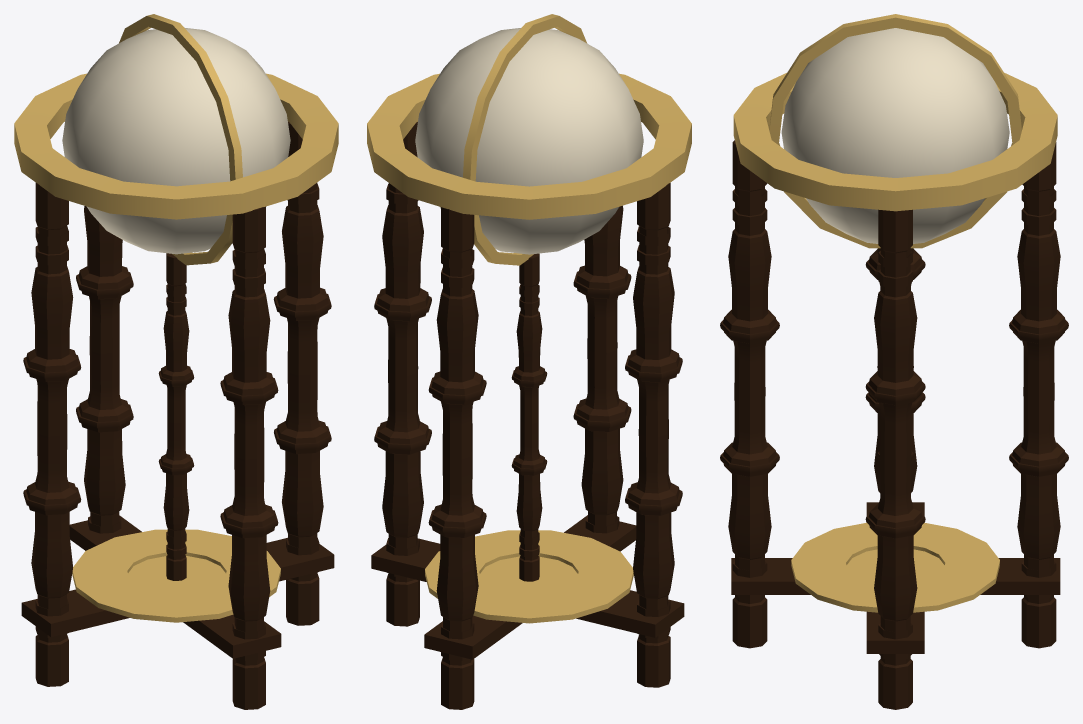
The model's file is MiscGlobeUV.fbx.
The picture shows the model from 3 angles, left to right: view 1: azimuth 30°, elevation 25°; view 2: azimuth 150°, elevation 25°; view 3: azimuth 270°, elevation 25°; orthographic projection.
Parts seen in each view (by area): view 1: polySurface45, polySurface44; view 2: polySurface45, polySurface44; view 3: polySurface45, polySurface44.
Boxes of the visible parts, <box> form: polySurface45: <box>14,14,338,709</box>; polySurface44: <box>62,27,290,254</box>; polySurface45: <box>367,14,691,709</box>; polySurface44: <box>415,28,643,254</box>; polySurface45: <box>720,14,1068,709</box>; polySurface44: <box>781,28,1009,243</box>.
Bounding box in the file's own units: 59.35 × 117 × 59.35.
